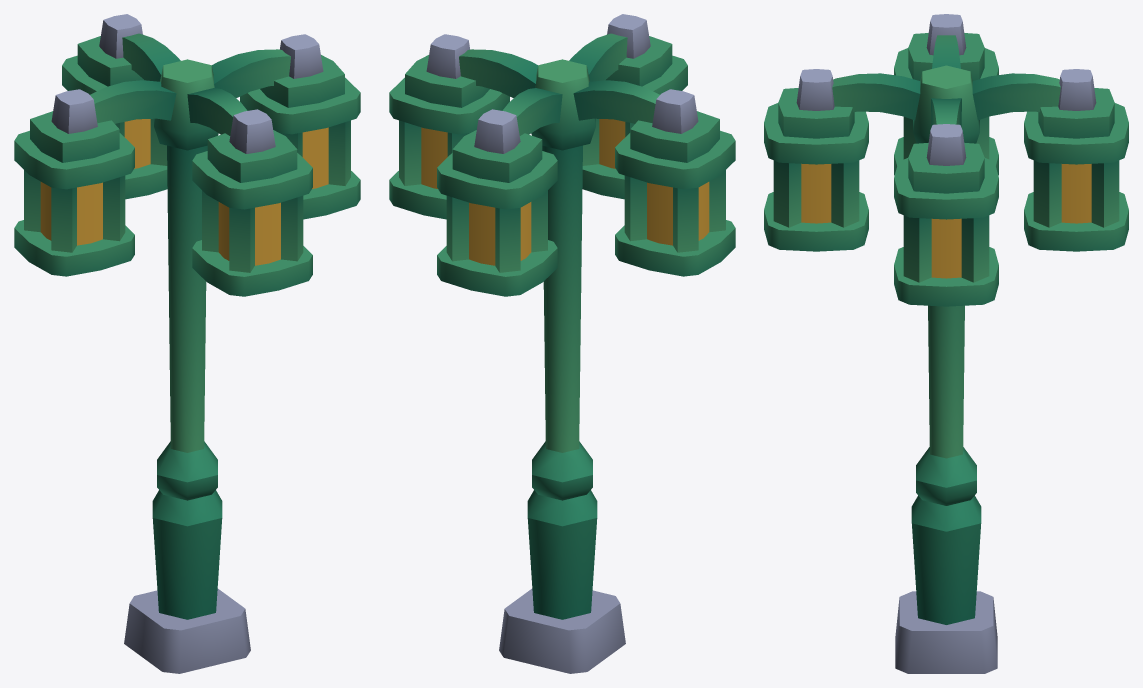
The model's file is lightpost-all.glb.
The picture shows the model from 3 angles, left to right: view 1: azimuth 30°, elevation 25°; view 2: azimuth 150°, elevation 25°; view 3: azimuth 270°, elevation 25°; orthographic projection.
Visible parts, largest first — view 1: lightpost-all; view 2: lightpost-all; view 3: lightpost-all.
Boxes of the visible parts, left/top/right/bottom form: lightpost-all: left=14, top=14, right=360, bottom=673; lightpost-all: left=389, top=14, right=735, bottom=673; lightpost-all: left=764, top=14, right=1128, bottom=673.
Bounding box in the file's own units: 0.7266 × 1.27 × 0.7266.
